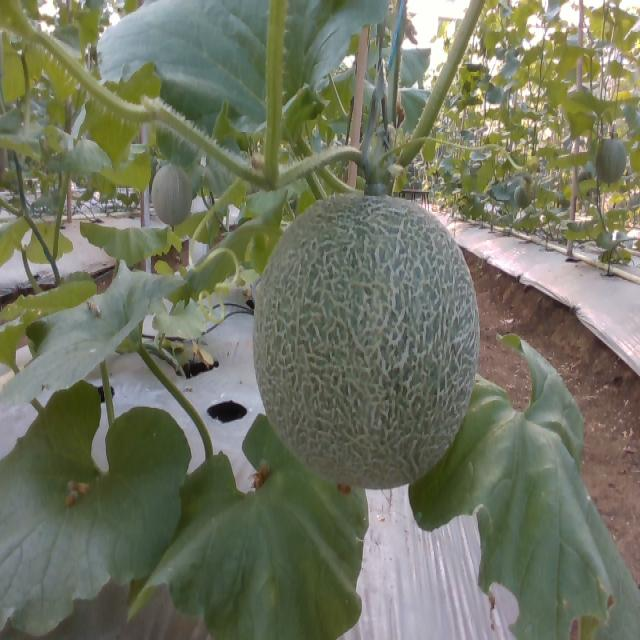melon: (254, 195, 479, 489)
